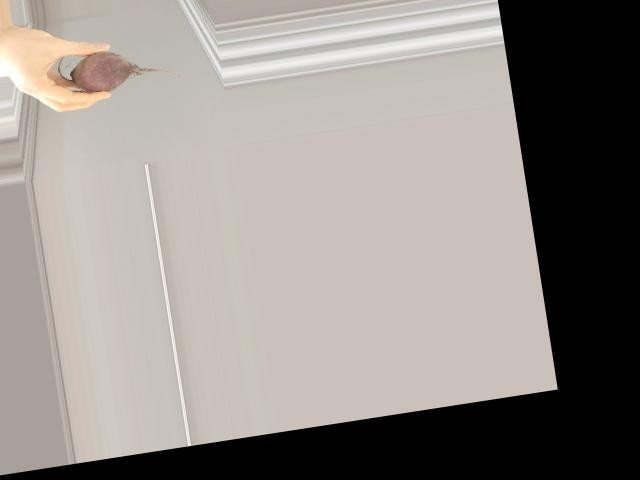beet: (57, 38, 187, 97)
